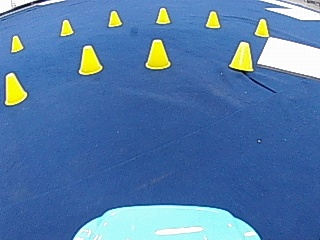cone: (144, 38, 170, 69), (4, 71, 27, 104), (78, 43, 102, 74), (229, 40, 253, 70), (253, 17, 269, 37), (204, 10, 220, 28), (155, 7, 170, 24), (59, 18, 73, 36), (10, 34, 24, 52), (107, 10, 122, 26)
